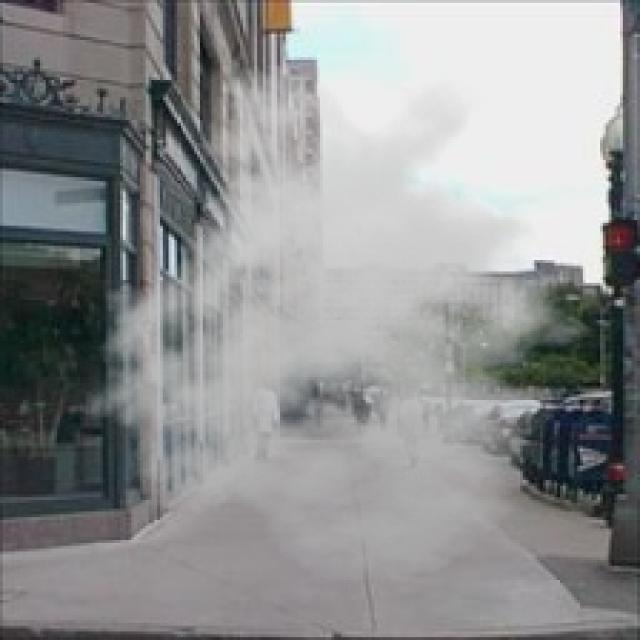smoke: (72, 60, 617, 583)
